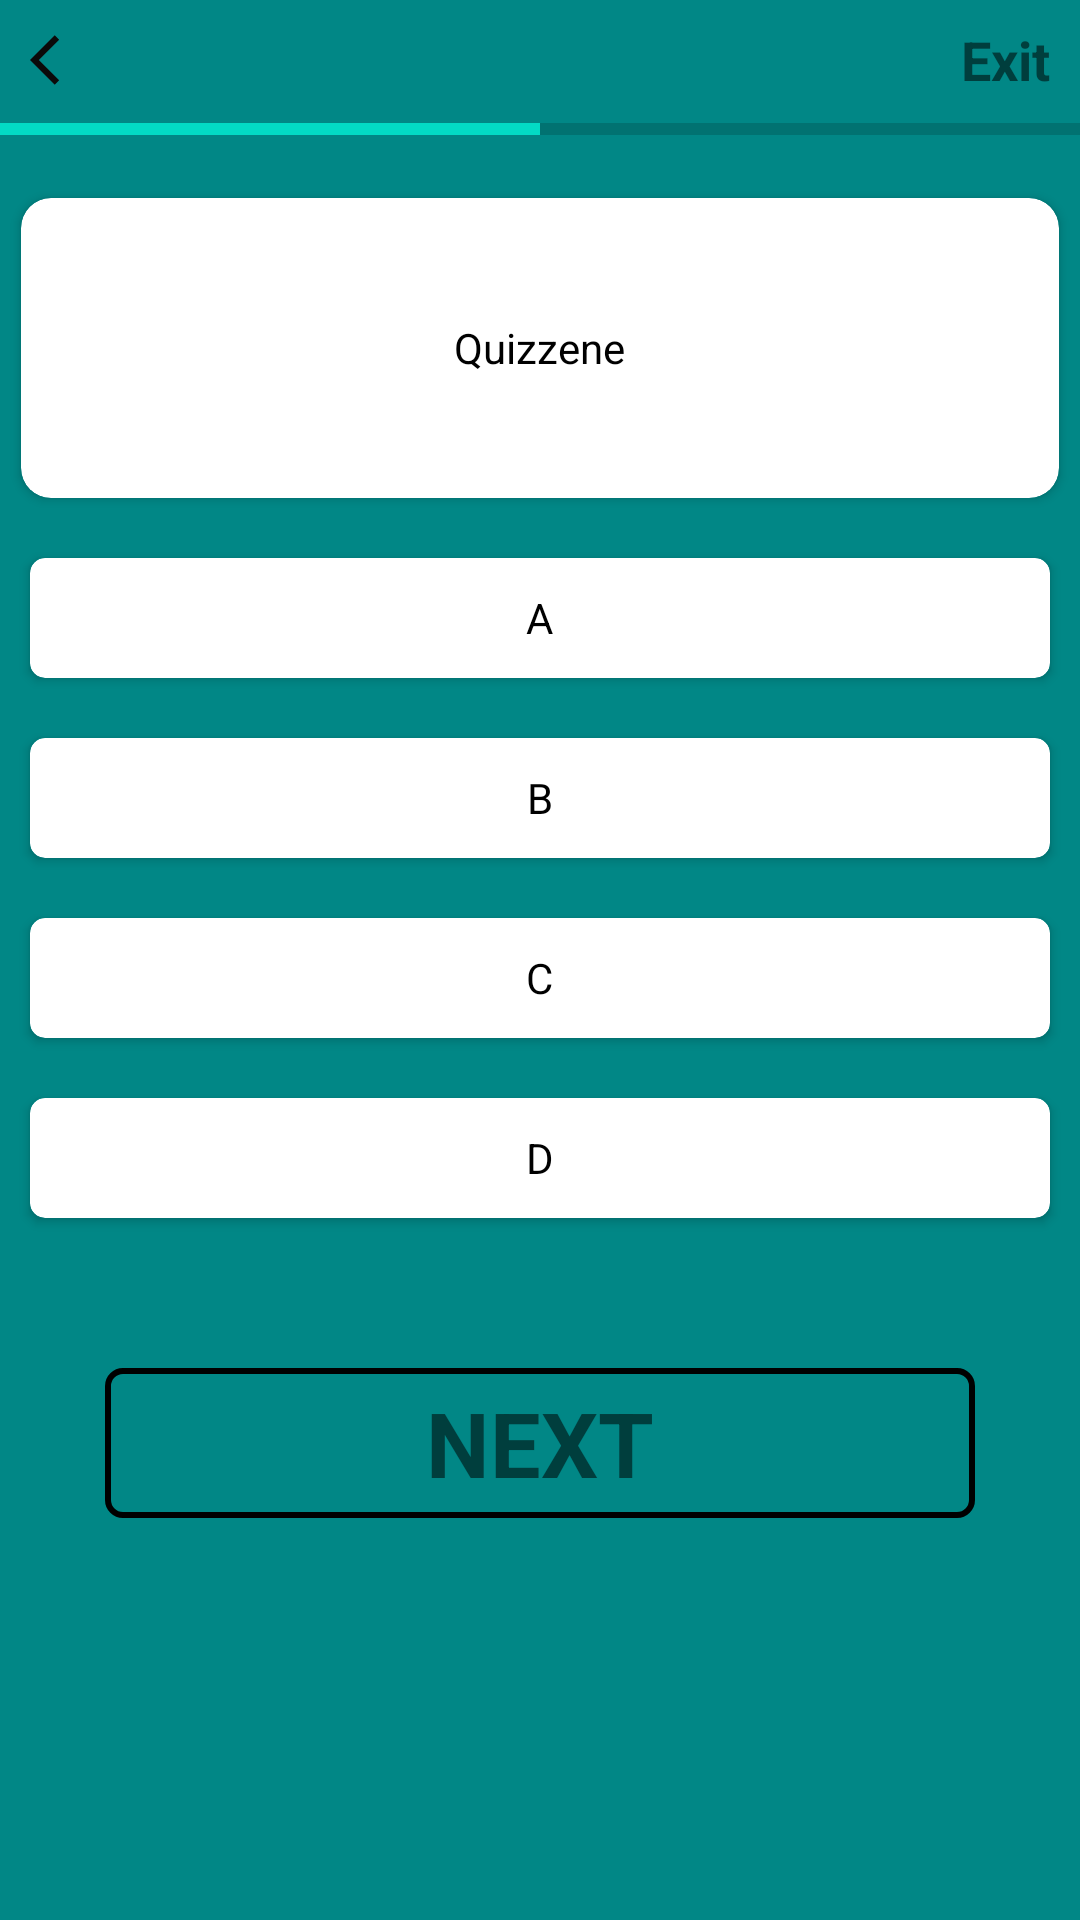

Screen size 1080w x 1920h. Icon name, then its center in pixels as (x=x, y=y):
arrow back: (x=44, y=60)
